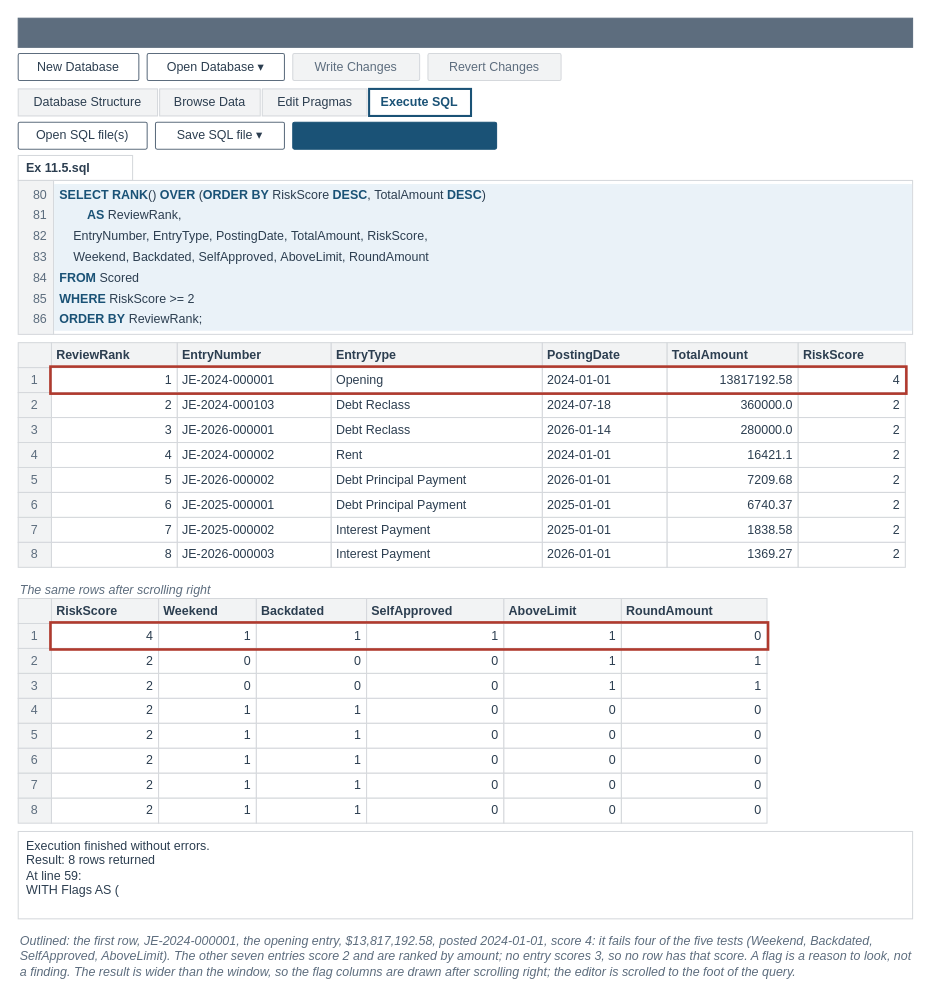
Some shapes in this 931 by 1007 pixel diagram are drawn without their labels. The centre of each missing label's shape, as x and y in pixels:
"DB Browser for SQLite - C:\Users\you\Documents\CharlesRiver_Work.sqlite" belongs at (x=465, y=32).
"▶ Execute all/selected SQL" belongs at (x=394, y=135).
